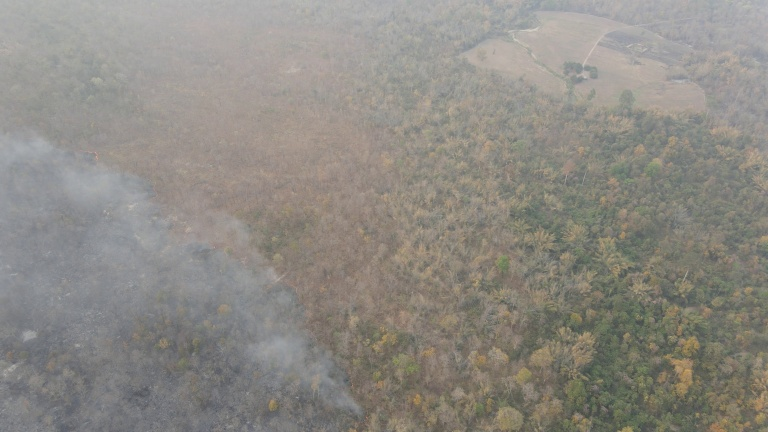smoke: (1, 118, 365, 428)
